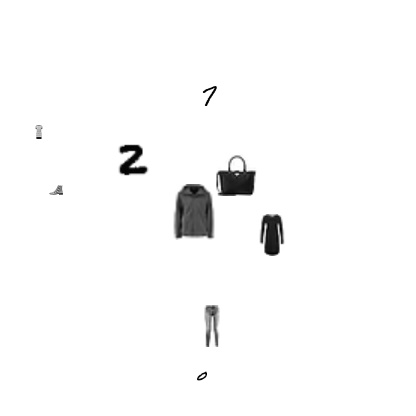0: (195, 369, 209, 383)
2: (111, 139, 153, 181)
7: (196, 79, 224, 107)
Ankle_boot: (49, 183, 63, 197)
Bag: (215, 154, 257, 196)
Coat: (166, 184, 222, 240)
Dress: (251, 214, 293, 256), (32, 125, 46, 139)
Trouser: (191, 305, 233, 347)
